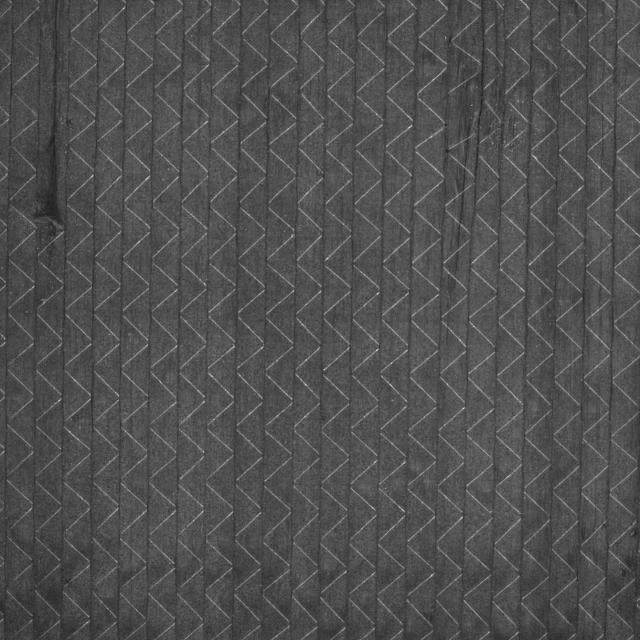carbon-fibre-defect: (446, 39, 559, 142), (33, 3, 69, 235)
